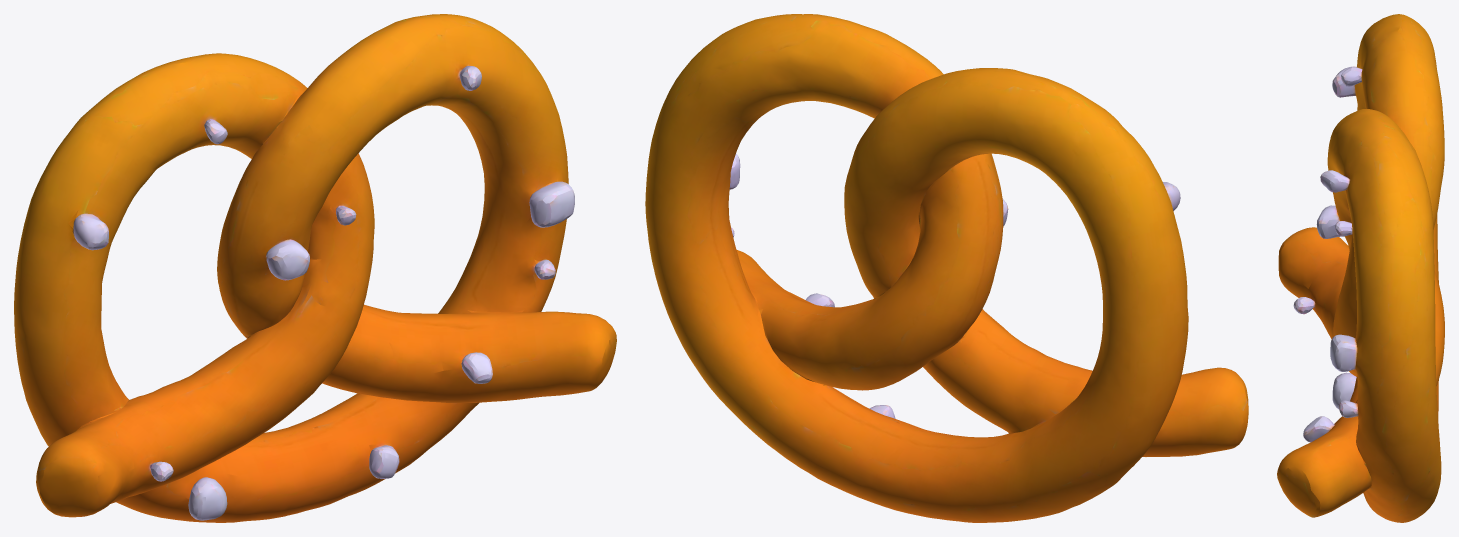
File: pretzel.glb
3 views of the same model, side by side, from view 1: azimuth 30°, elevation 25°; view 2: azimuth 150°, elevation 25°; view 3: azimuth 270°, elevation 25° (orthographic). The views are drawn at different scales.
Visible parts, largest first — view 1: Mesh; view 2: Mesh; view 3: Mesh.
Part boxes in pixels (bbox=[...]): Mesh: bbox=[14, 14, 616, 522]; Mesh: bbox=[645, 14, 1248, 522]; Mesh: bbox=[1277, 14, 1444, 522].
Bounding box in the file's own units: 1 × 0.7899 × 0.2869.
1 material, 1 textured.
